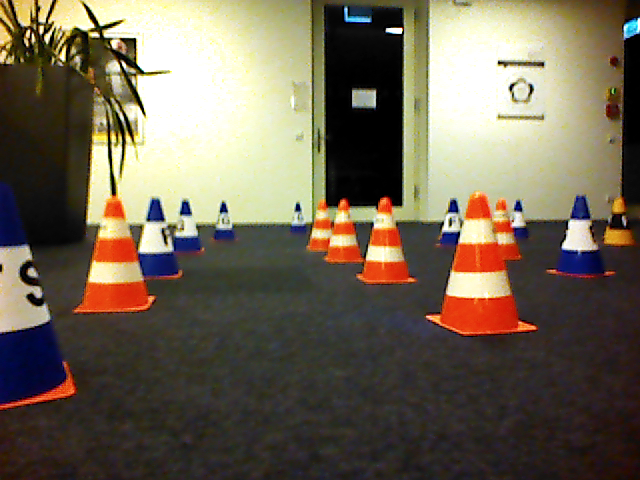bluecone: (546, 195, 617, 279)
orangeconesmall: (76, 196, 142, 316), (360, 197, 418, 286), (328, 197, 365, 264)
yellowcone: (4, 179, 68, 413)
